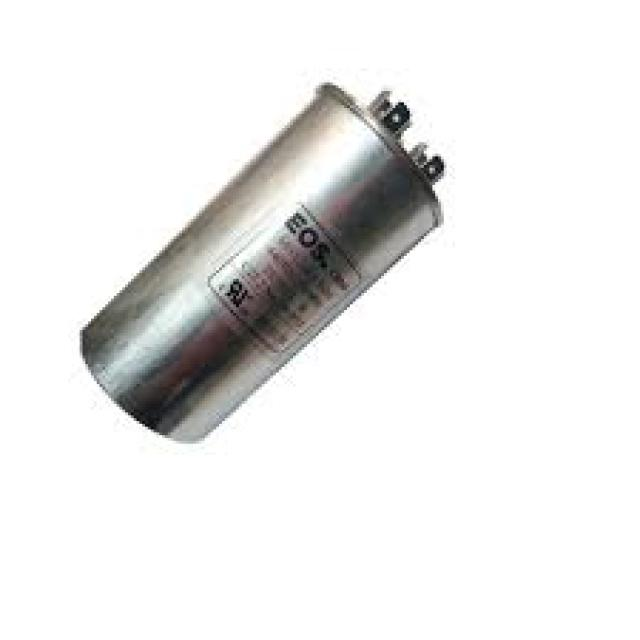Capacitor: (80, 85, 444, 449)
